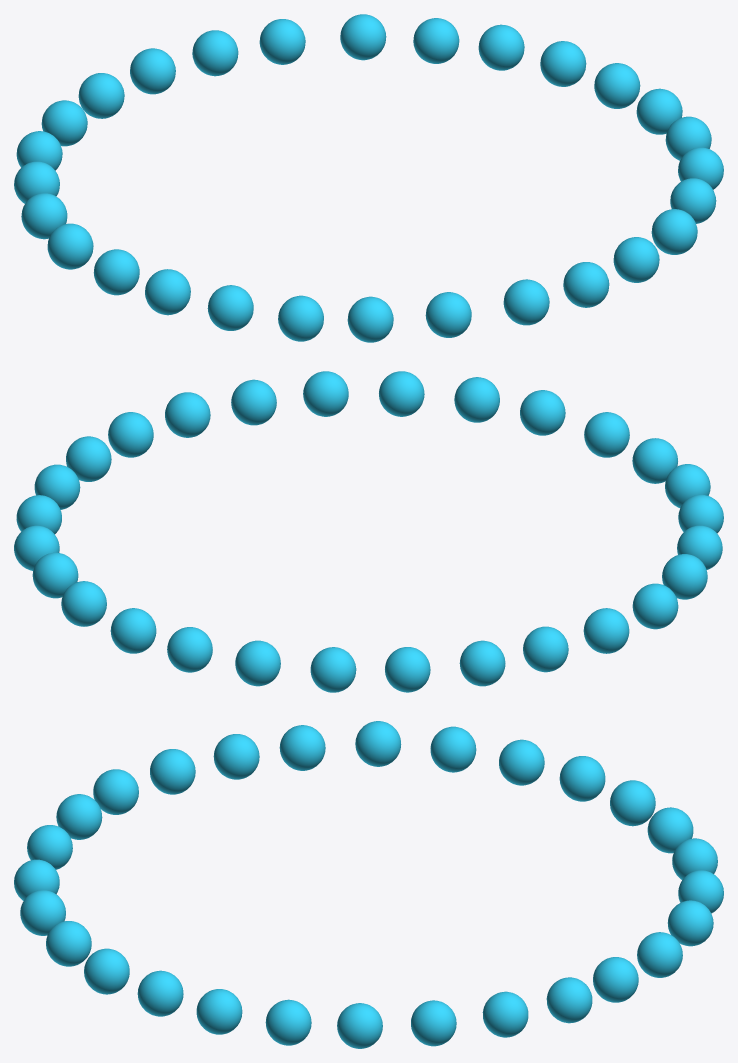
The picture shows the model from 3 angles, top to bottom: view 1: azimuth 30°, elevation 25°; view 2: azimuth 150°, elevation 25°; view 3: azimuth 270°, elevation 25°; orthographic projection.
Visible parts, largest first — view 1: Sphere048; view 2: Sphere048; view 3: Sphere048.
Boxes of the visible parts, x1,y1,x2,y2 form: Sphere048: [14, 14, 723, 342]; Sphere048: [14, 371, 723, 692]; Sphere048: [14, 721, 723, 1048].
Bounding box in the file's own units: 128 × 8.22 × 127.
